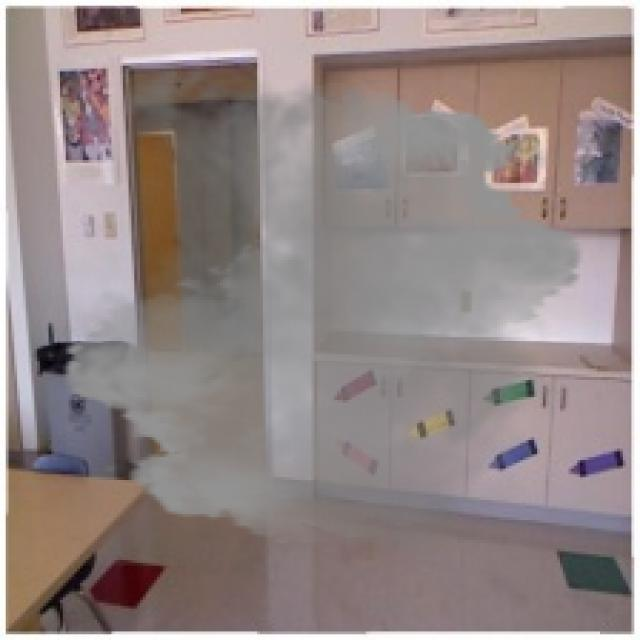Smoke: (45, 48, 600, 566)
